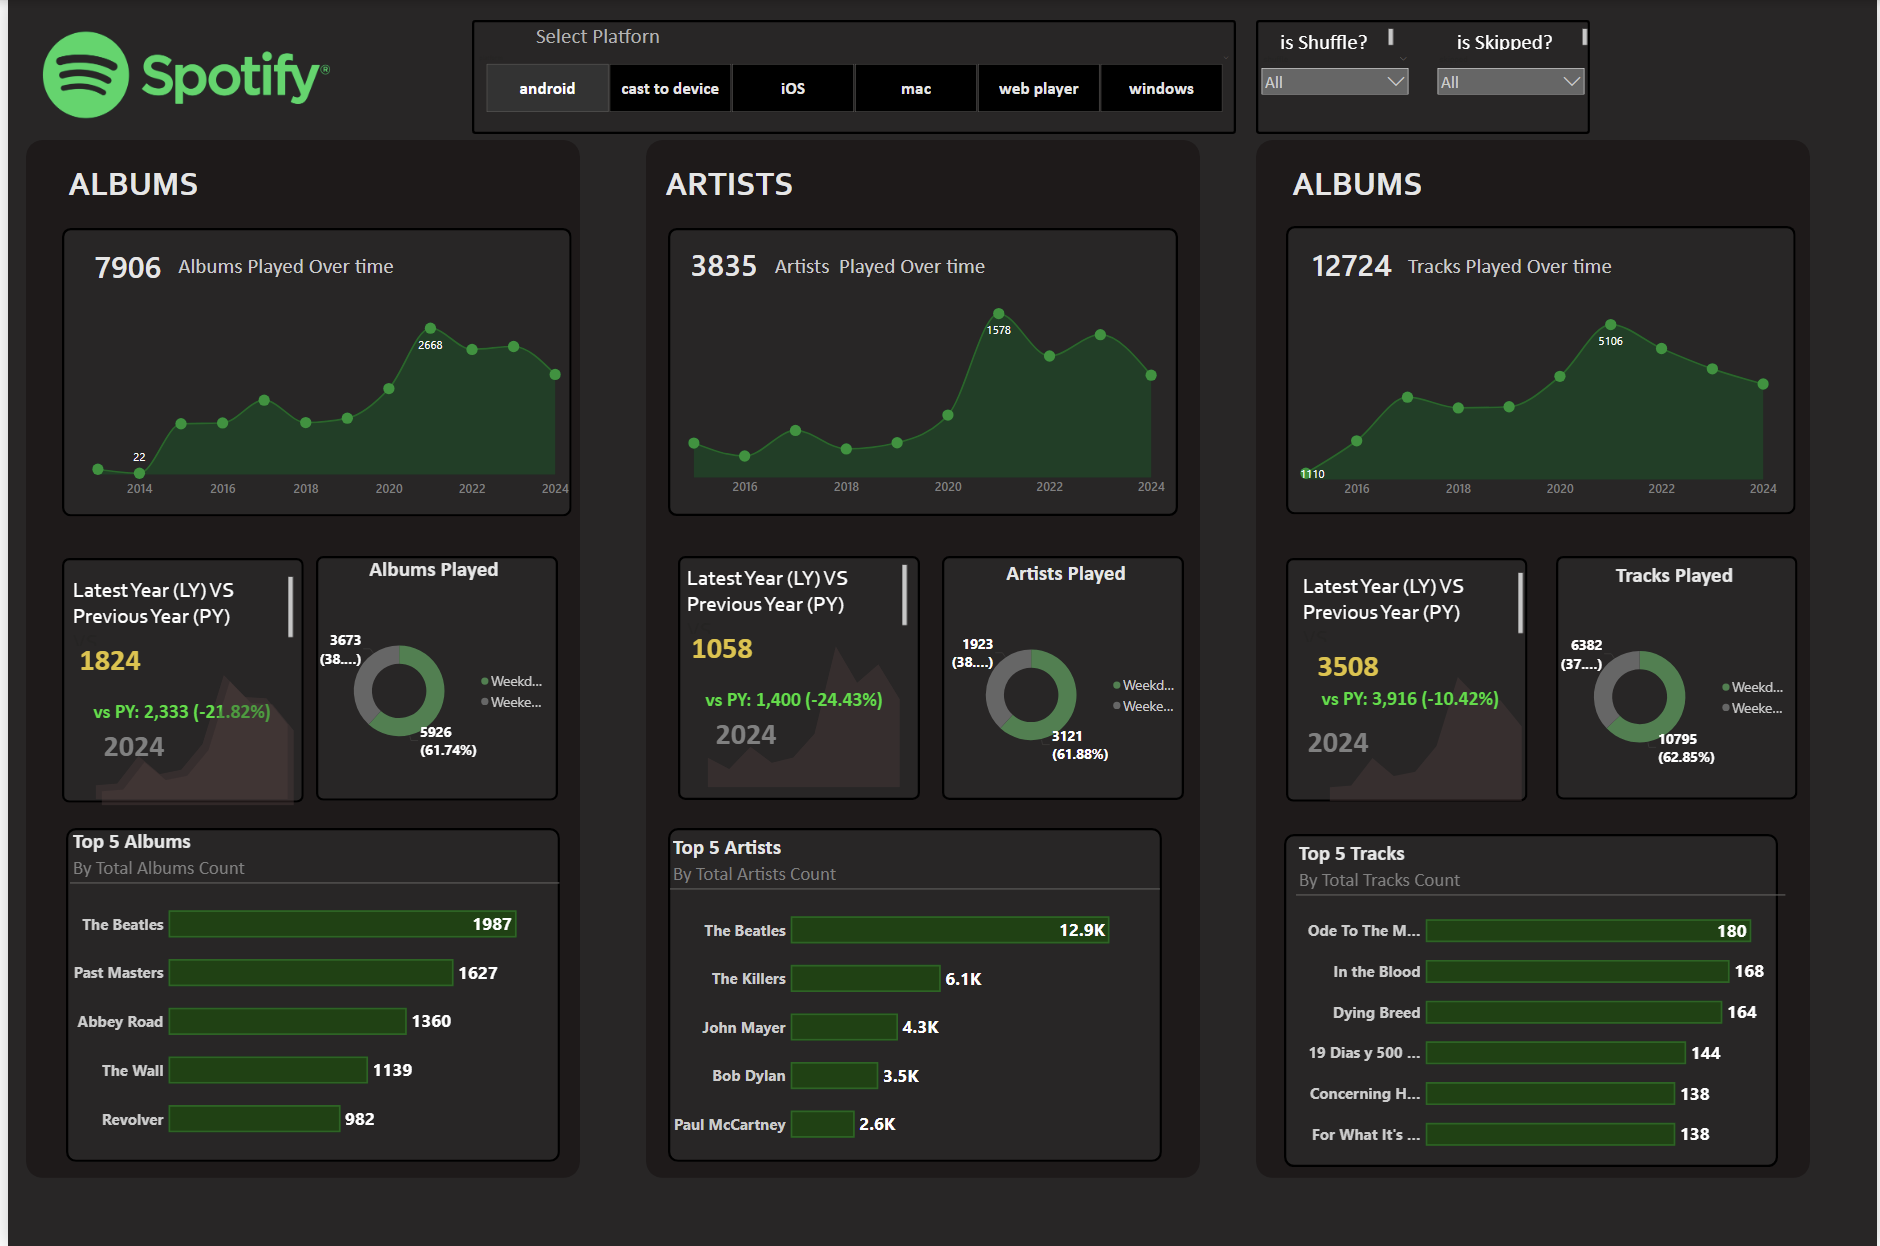

Layout of this report page (visuals, bound fields, positions):
{"tool":"powerbi","page":{"name":"OverView","canvas":[3300,2200],"ordinal":0},"visuals":[{"type":"image","box":[27.6,35.5,576.3,201.3],"z":0},{"type":"shape","box":[31.8,247.2,978.2,1832.7],"z":1000},{"type":"textbox","box":[94.7,284.2,264.5,82.9],"z":2000},{"type":"shape","box":[94.7,402.6,900,509.2],"z":3000},{"type":"card","fields":{"Values":["spotify_history.No of albums"]},"box":[110.5,402.6,205.3,130.3],"z":4000},{"type":"textbox","box":[288.2,442.1,402.6,90.8],"z":5000},{"type":"areaChart","fields":{"Category":["Date Table.Year"],"Y":["spotify_history.No of albums"]},"box":[130.3,532.9,864.5,355.3],"z":6000},{"type":"shape","box":[94.7,986.8,427,432],"z":7000},{"type":"areaChart","fields":{"Category":["Date Table.Year"],"Y":["spotify_history.No of albums"]},"box":[102.6,1144.7,406.6,272.4],"z":8000},{"type":"textbox","box":[110.5,1014.5,398.7,130.3],"z":9000},{"type":"shape","box":[819.3,35.3,1349,201.3],"z":10000},{"type":"card","fields":{"Values":["spotify_history.CurrentYearAlbums"]},"box":[94.7,1101.3,169.7,118.4],"z":11000},{"type":"card","fields":{"Values":["spotify_history.PY and YoY Albums KPI"]},"box":[120.1,1204.2,374.3,98.9],"z":12000},{"type":"slicer","fields":{"Values":["spotify_history.platform"]},"box":[819.3,91.8,1349,113],"z":13000},{"type":"shape","box":[2203.5,247.2,978.2,1832.7],"z":14000},{"type":"card","fields":{"Values":["spotify_history.Max Year"]},"box":[137.7,1253.6,169.5,116.5],"z":15000},{"type":"shape","box":[543.8,981.7,427.3,432],"z":16000},{"type":"shape","box":[102.4,1462,872.2,589.7],"z":17000},{"type":"shape","box":[1126.5,247.2,978.2,1832.7],"z":18000},{"type":"barChart","title":"Top 5 Albums","fields":{"Category":["spotify_history.album_name"],"Y":["CountNonNull(spotify_history.album_name)"]},"box":[110.5,1460.5,864.5,580.3],"z":19000},{"type":"donutChart","title":"Albums Played","fields":{"Category":["Date Table.Weekday_Weekend"],"Y":["spotify_history.No of albums"]},"box":[543.8,981.7,416.7,430.8],"z":20000},{"type":"shape","box":[1165.3,402.6,900.5,508.5],"z":21000},{"type":"textbox","box":[1146.5,281.9,264.5,82.9],"z":22000},{"type":"card","fields":{"Values":["spotify_history.No Of Artists"]},"box":[1162.3,400.3,205.3,130.3],"z":23000},{"type":"textbox","box":[1339.9,439.7,402.6,90.8],"z":24000},{"type":"areaChart","fields":{"Category":["Date Table.Year"],"Y":["spotify_history.No Of Artists"]},"box":[1182,530.5,864.5,355.3],"z":25000},{"type":"shape","box":[1183,981.7,427.3,430.8],"z":26000},{"type":"shape","box":[1649.1,981.7,427.3,430.8],"z":27000},{"type":"donutChart","title":"Artists Played","fields":{"Category":["Date Table.Weekday_Weekend"],"Y":["spotify_history.No Of Artists"]},"box":[1659.7,988.8,416.7,430.8],"z":28000},{"type":"areaChart","fields":{"Category":["Date Table.Year"],"Y":["spotify_history.No Of Artists"]},"box":[1184.4,1123,406.6,272.4],"z":29000},{"type":"textbox","box":[1192.3,992.7,398.7,130.3],"z":30000},{"type":"card","fields":{"Values":["spotify_history.LatestYearArtists"]},"box":[1176.5,1079.5,169.7,118.4],"z":31000},{"type":"card","fields":{"Values":["spotify_history.PY and YoY Artist KPI"]},"box":[1201.8,1182.4,374.3,98.9],"z":32000},{"type":"card","fields":{"Values":["spotify_history.Max Year"]},"box":[1219.5,1231.8,169.5,116.5],"z":33000},{"type":"areaChart","fields":{"Category":["Date Table.Year"],"Y":["spotify_history.No of albums"]},"box":[112.6,1154.7,406.6,272.4],"z":34000},{"type":"shape","box":[1165.3,1462,872.2,589.7],"z":35000},{"type":"barChart","title":"Top 5 Artists","fields":{"Category":["spotify_history.artist_name"],"Y":["CountNonNull(spotify_history.artist_name)"]},"box":[1168.9,1472.6,865.2,579.1],"z":36000},{"type":"textbox","box":[2256.1,282.4,264.5,82.9],"z":37000},{"type":"shape","box":[2256.1,400.8,900,509.2],"z":38000},{"type":"card","fields":{"Values":["spotify_history.No of Tracks"]},"box":[2271.8,400.8,205.3,130.3],"z":39000},{"type":"textbox","box":[2449.5,440.3,402.6,90.8],"z":40000},{"type":"areaChart","fields":{"Category":["Date Table.Year"],"Y":["spotify_history.No of Tracks"]},"box":[2261.8,532.9,864.5,355.3],"z":41000},{"type":"shape","box":[2257.9,986.8,426.3,430.3],"z":42000},{"type":"shape","box":[2731.6,982.9,426.3,430.3],"z":43000},{"type":"textbox","box":[2279.7,1006.7,398.7,130.3],"z":44000},{"type":"areaChart","fields":{"Category":["Date Table.Year"],"Y":["spotify_history.No of albums"]},"box":[2281.8,1147,406.6,272.4],"z":45000},{"type":"card","fields":{"Values":["spotify_history.LatestYearTracks"]},"box":[2281.6,1113.2,169.7,118.4],"z":46000},{"type":"card","fields":{"Values":["spotify_history.Max Year"]},"box":[2261.8,1223.7,169.7,157.9],"z":47000},{"type":"card","fields":{"Values":["spotify_history.PY and YoY Track KPI"]},"box":[2289.5,1184.2,375,98.7],"z":48000},{"type":"donutChart","title":"Tracks Played","fields":{"Category":["Date Table.Weekday_Weekend"],"Y":["spotify_history.No of Tracks"]},"box":[2731.6,990.8,418.4,430.3],"z":49000},{"type":"shape","box":[2253.9,1472.4,872.4,588.2],"z":50000},{"type":"barChart","title":"Top 5 Tracks","fields":{"Category":["spotify_history.track_name"],"Y":["CountNonNull(spotify_history.track_name)"]},"box":[2273.7,1484.2,864.5,576.3],"z":51000},{"type":"textbox","box":[819.3,35.3,444.9,56.5],"z":52000},{"type":"shape","box":[2203.5,35.3,589.7,201.3],"z":53000},{"type":"slicer","fields":{"Values":["spotify_history.shuffle"]},"box":[2203.5,91.8,279,75],"z":54000},{"type":"slicer","fields":{"Values":["spotify_history.skipped"]},"box":[2514.3,91.8,279,75],"z":55000},{"type":"textbox","box":[2203.5,45.9,247.2,45.9],"z":56000},{"type":"textbox","box":[2500.2,45.9,293.1,45.9],"z":57000}]}

Visuals, with their boxes in screenshot pixels (x1, y1, x2, y2), scaled from the page's 3300x2200 canvas onto the 1880x1246 screenshot:
image: bbox(16, 20, 344, 134)
shape: bbox(18, 140, 575, 1178)
textbox: bbox(54, 161, 205, 208)
shape: bbox(54, 228, 567, 516)
card - spotify_history.No of albums: bbox(63, 228, 180, 302)
textbox: bbox(164, 250, 394, 302)
areaChart - Date Table.Year x spotify_history.No of albums: bbox(74, 302, 567, 503)
shape: bbox(54, 559, 297, 804)
areaChart - Date Table.Year x spotify_history.No of albums: bbox(58, 648, 290, 803)
textbox: bbox(63, 575, 290, 648)
shape: bbox(467, 20, 1235, 134)
card - spotify_history.CurrentYearAlbums: bbox(54, 624, 151, 691)
card - spotify_history.PY and YoY Albums KPI: bbox(68, 682, 282, 738)
slicer - spotify_history.platform: bbox(467, 52, 1235, 116)
shape: bbox(1255, 140, 1813, 1178)
card - spotify_history.Max Year: bbox(78, 710, 175, 776)
shape: bbox(310, 556, 553, 801)
shape: bbox(58, 828, 555, 1162)
shape: bbox(642, 140, 1199, 1178)
"Top 5 Albums" barChart: bbox(63, 827, 555, 1156)
"Albums Played" donutChart: bbox(310, 556, 547, 800)
shape: bbox(664, 228, 1177, 516)
textbox: bbox(653, 160, 804, 207)
card - spotify_history.No Of Artists: bbox(662, 227, 779, 301)
textbox: bbox(763, 249, 993, 300)
areaChart - Date Table.Year x spotify_history.No Of Artists: bbox(673, 300, 1166, 502)
shape: bbox(674, 556, 917, 800)
shape: bbox(939, 556, 1183, 800)
"Artists Played" donutChart: bbox(946, 560, 1183, 804)
areaChart - Date Table.Year x spotify_history.No Of Artists: bbox(675, 636, 906, 790)
textbox: bbox(679, 562, 906, 636)
card - spotify_history.LatestYearArtists: bbox(670, 611, 767, 678)
card - spotify_history.PY and YoY Artist KPI: bbox(685, 670, 898, 726)
card - spotify_history.Max Year: bbox(695, 698, 791, 764)
areaChart - Date Table.Year x spotify_history.No of albums: bbox(64, 654, 296, 808)
shape: bbox(664, 828, 1161, 1162)
"Top 5 Artists" barChart: bbox(666, 834, 1159, 1162)
textbox: bbox(1285, 160, 1436, 207)
shape: bbox(1285, 227, 1798, 515)
card - spotify_history.No of Tracks: bbox(1294, 227, 1411, 301)
textbox: bbox(1395, 249, 1625, 301)
areaChart - Date Table.Year x spotify_history.No of Tracks: bbox(1289, 302, 1781, 503)
shape: bbox(1286, 559, 1529, 803)
shape: bbox(1556, 557, 1799, 800)
textbox: bbox(1299, 570, 1526, 644)
areaChart - Date Table.Year x spotify_history.No of albums: bbox(1300, 650, 1532, 804)
card - spotify_history.LatestYearTracks: bbox(1300, 630, 1396, 698)
card - spotify_history.Max Year: bbox(1289, 693, 1385, 782)
card - spotify_history.PY and YoY Track KPI: bbox(1304, 671, 1518, 727)
"Tracks Played" donutChart: bbox(1556, 561, 1795, 805)
shape: bbox(1284, 834, 1781, 1167)
"Top 5 Tracks" barChart: bbox(1295, 841, 1788, 1167)
textbox: bbox(467, 20, 720, 52)
shape: bbox(1255, 20, 1591, 134)
slicer - spotify_history.shuffle: bbox(1255, 52, 1414, 94)
slicer - spotify_history.skipped: bbox(1432, 52, 1591, 94)
textbox: bbox(1255, 26, 1396, 52)
textbox: bbox(1424, 26, 1591, 52)
